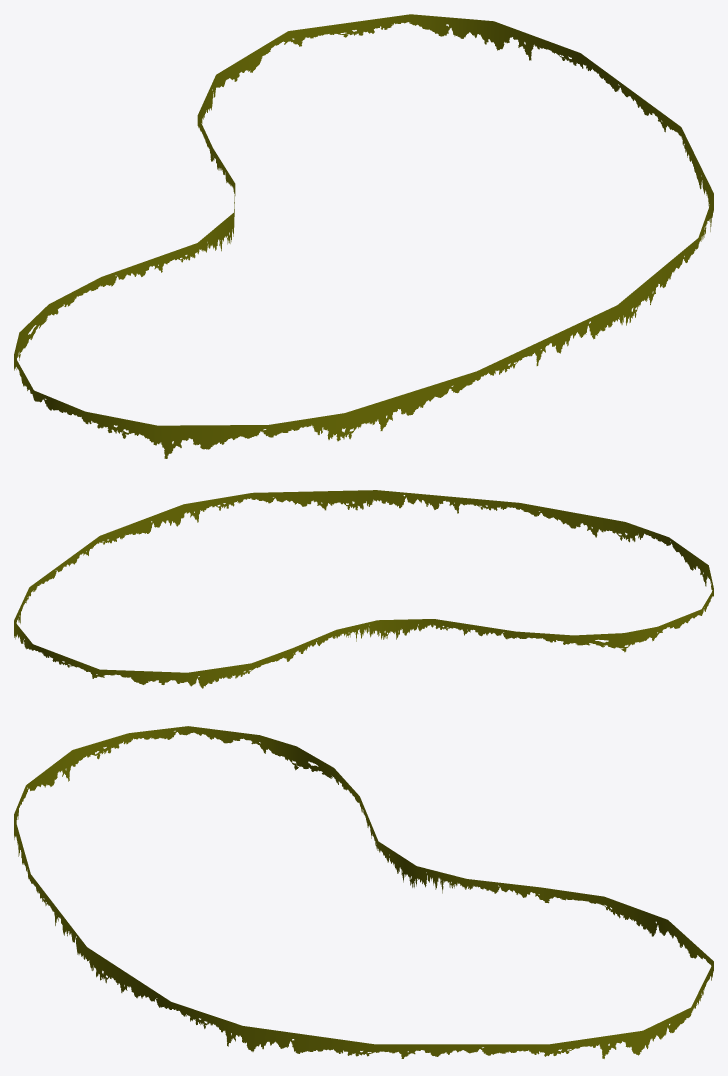
Rendered from grassTopFringe_E.fbx.
The picture shows the model from 3 angles, top to bottom: view 1: azimuth 30°, elevation 25°; view 2: azimuth 150°, elevation 25°; view 3: azimuth 270°, elevation 25°; orthographic projection. The views are drawn at different scales.
Visible parts, largest first — view 1: grassTopEdgeFringe_E; view 2: grassTopEdgeFringe_E; view 3: grassTopEdgeFringe_E.
Boxes of the visible parts, bbox=[...] form: grassTopEdgeFringe_E: bbox=[14, 14, 713, 458]; grassTopEdgeFringe_E: bbox=[14, 490, 713, 688]; grassTopEdgeFringe_E: bbox=[14, 726, 713, 1058].
Size of the model in its own units: 4298 by 196 by 3995.
